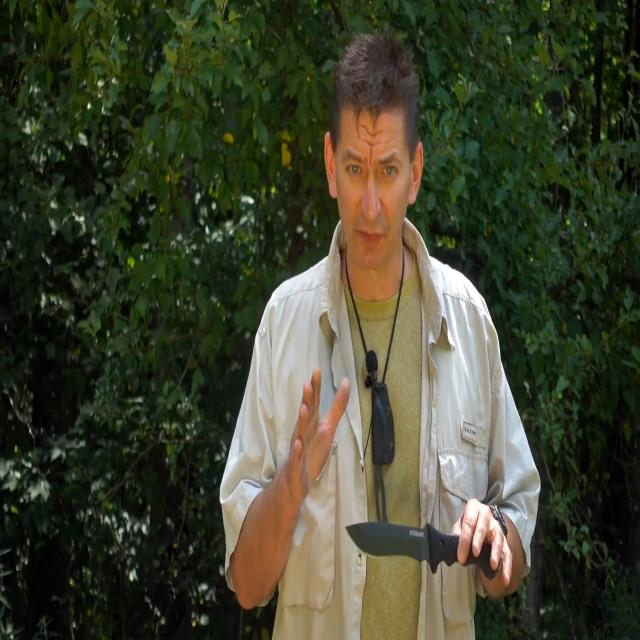knife: (346, 516, 500, 590)
